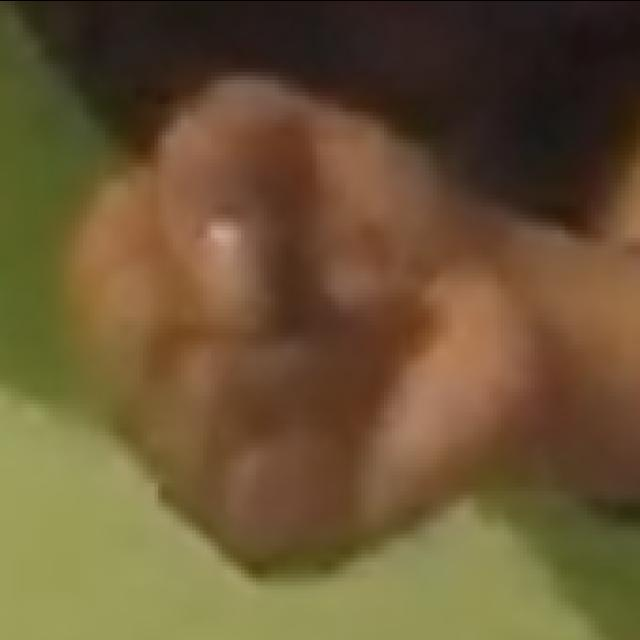S: (51, 62, 545, 590)
